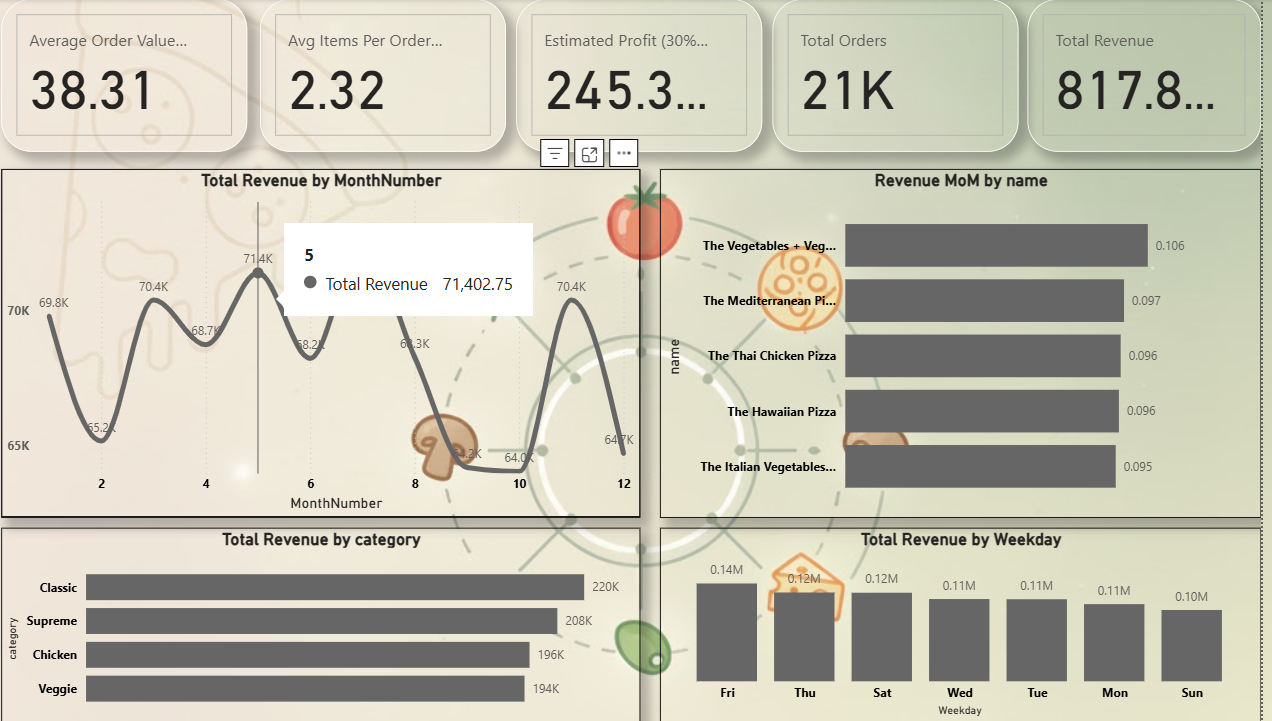

This screenshot's page, from the dashboard's own definition file:
{"tool":"powerbi","page":{"name":"Page Dashboard","canvas":[1280,720],"ordinal":0},"visuals":[{"type":"cardVisual","fields":{"Data":["Measures table.Average Order Value (AOV)AOV"]},"box":[26.1,0,245.1,151.8],"z":0},{"type":"cardVisual","fields":{"Data":["Measures table.Avg Items Per Order (AIPO)Avg Items Per Order"]},"box":[283.6,0,245.1,151.8],"z":1000},{"type":"cardVisual","fields":{"Data":["Measures table.Estimated Profit (30% margin)Estimated Profit"]},"box":[538.6,0,245.1,151.8],"z":2000},{"type":"cardVisual","fields":{"Data":["Measures table.Total Orders"]},"box":[793.6,0,245.1,151.8],"z":3000},{"type":"cardVisual","fields":{"Data":["Measures table.Total Revenue"]},"box":[1047.4,0,232.6,151.8],"z":4000},{"type":"lineChart","fields":{"Category":["Calender.MonthNumber"],"Y":["Measures table.Total Revenue"]},"box":[26.1,169.2,635.7,347.1],"z":5000},{"type":"barChart","fields":{"Category":["pizza_types.name"],"Y":["Measures table.Revenue MoM"]},"box":[681.7,169.2,598.3,347.1],"z":5001},{"type":"barChart","fields":{"Category":["pizza_types.category"],"Y":["Measures table.Total Revenue"]},"box":[26,526,636,194],"z":5002},{"type":"columnChart","fields":{"Y":["Measures table.Total Revenue"],"Category":["Calender.Weekday"]},"box":[682,526,598,194],"z":5003}]}

Visuals, with their boxes in screenshot pixels (x1, y1, x2, y2), scaled from the page's 1280x720 canvas onto the 1272x721 screenshot:
cardVisual - Measures table.Average Order Value (AOV)AOV: bbox=[26, 0, 270, 152]
cardVisual - Measures table.Avg Items Per Order (AIPO)Avg Items Per Order: bbox=[282, 0, 525, 152]
cardVisual - Measures table.Estimated Profit (30% margin)Estimated Profit: bbox=[535, 0, 779, 152]
cardVisual - Measures table.Total Orders: bbox=[789, 0, 1032, 152]
cardVisual - Measures table.Total Revenue: bbox=[1041, 0, 1271, 152]
lineChart - Calender.MonthNumber x Measures table.Total Revenue: bbox=[26, 169, 658, 517]
barChart - pizza_types.name x Measures table.Revenue MoM: bbox=[677, 169, 1271, 517]
barChart - pizza_types.category x Measures table.Total Revenue: bbox=[26, 527, 658, 720]
columnChart - Measures table.Total Revenue x Calender.Weekday: bbox=[678, 527, 1271, 720]
